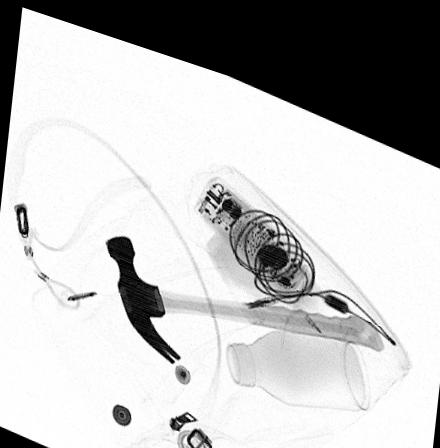Hammer: (106, 228, 385, 356)
